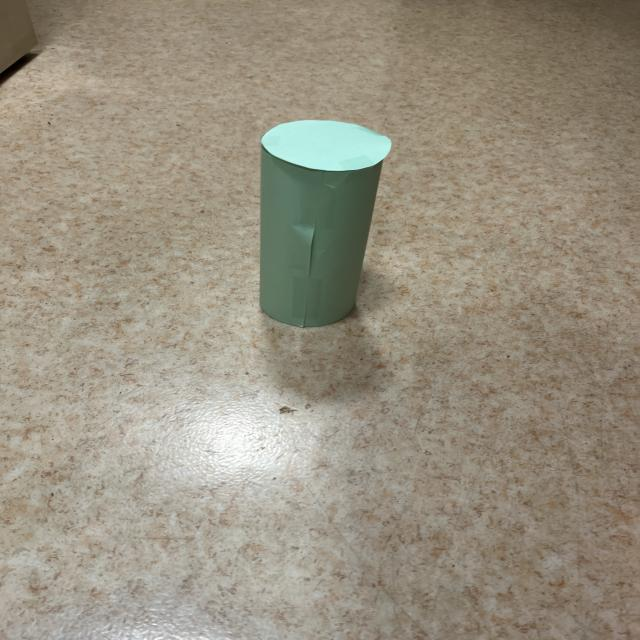meta: (260, 121, 390, 327)
